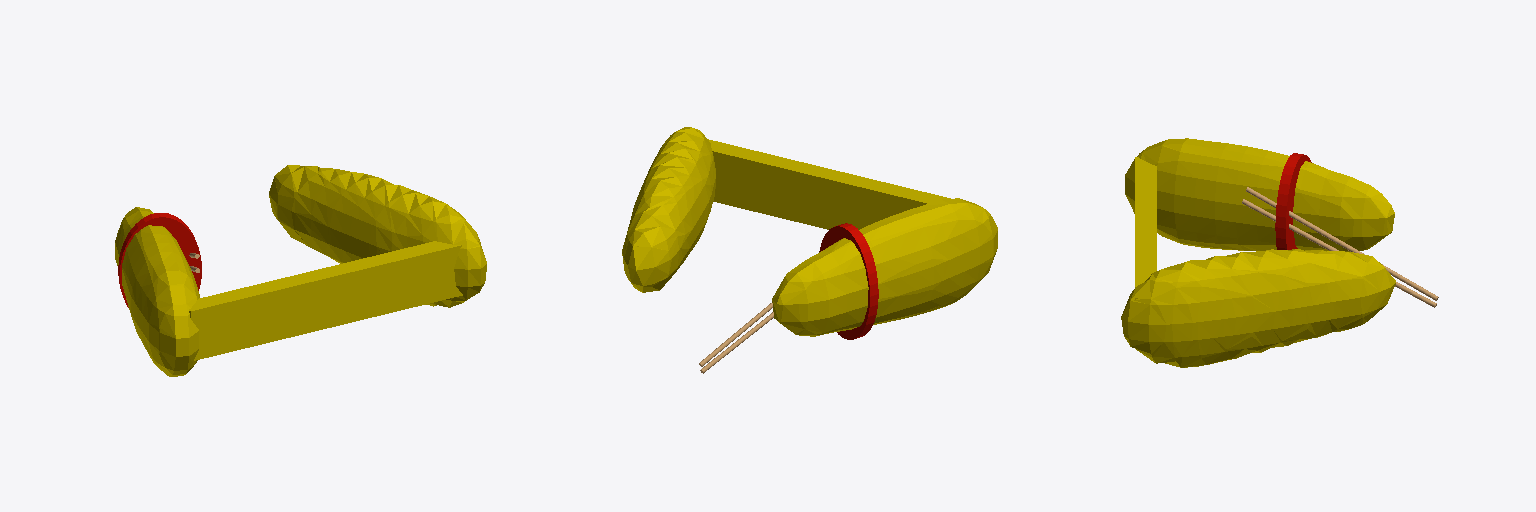
Rendered from amphsticks.obj.
The picture shows the model from 3 angles: view 1: azimuth 30°, elevation 25°; view 2: azimuth 150°, elevation 25°; view 3: azimuth 270°, elevation 25°; orthographic projection.
Visible parts, largest first — view 1: Mball, Cube_Cube.001, Cylinder_Cylinder.001; view 2: Mball, Cube_Cube.001, Cylinder_Cylinder.001; view 3: Mball, Cube_Cube.001, Cylinder_Cylinder.001, Cylinder.002_Cylinder.003, Cylinder.001_Cylinder.002.
Boxes of the visible parts, box(x1,y1,x2,y2) form: Mball: box(115, 165, 486, 376); Cube_Cube.001: box(189, 240, 478, 360); Cylinder_Cylinder.001: box(118, 213, 201, 307); Mball: box(622, 127, 997, 336); Cube_Cube.001: box(708, 139, 950, 229); Cylinder_Cylinder.001: box(819, 223, 878, 339); Mball: box(1121, 138, 1395, 367); Cube_Cube.001: box(1135, 157, 1156, 348); Cylinder_Cylinder.001: box(1275, 153, 1311, 249); Cylinder.002_Cylinder.003: box(1246, 187, 1438, 300); Cylinder.001_Cylinder.002: box(1242, 199, 1436, 307).
Size of the model in its own units: 3.76 by 1.29 by 3.21.